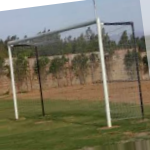goals: (6, 16, 146, 129)
